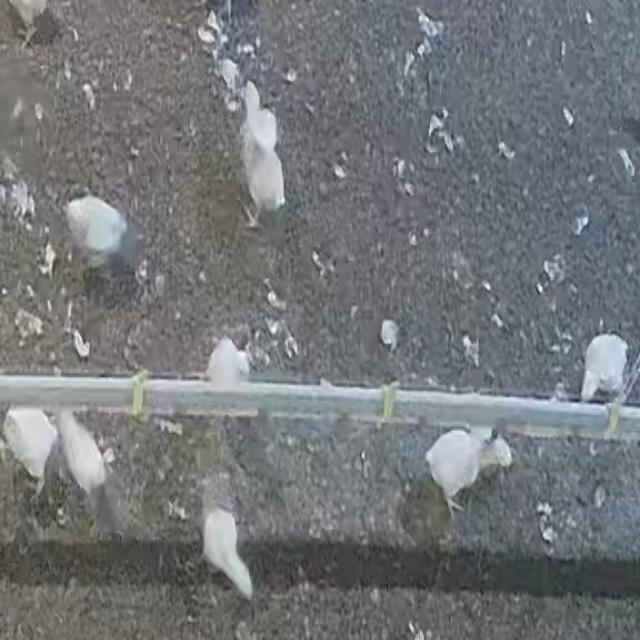chicken: (200, 504, 254, 600), (239, 133, 288, 225), (60, 403, 112, 489), (426, 430, 480, 512), (4, 407, 59, 486), (66, 192, 128, 262), (579, 333, 629, 404), (241, 81, 279, 158), (205, 337, 252, 388)
